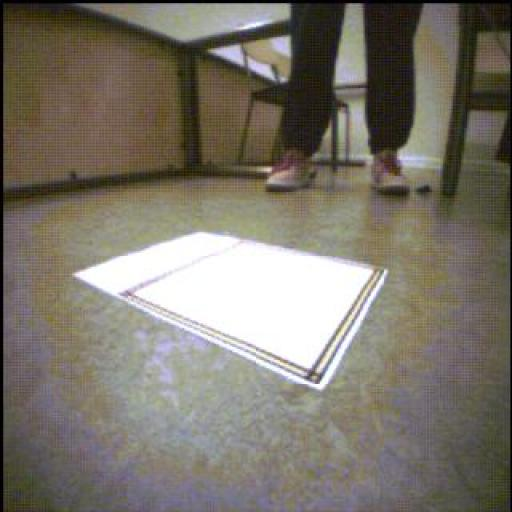Pad: (76, 233, 388, 390)
